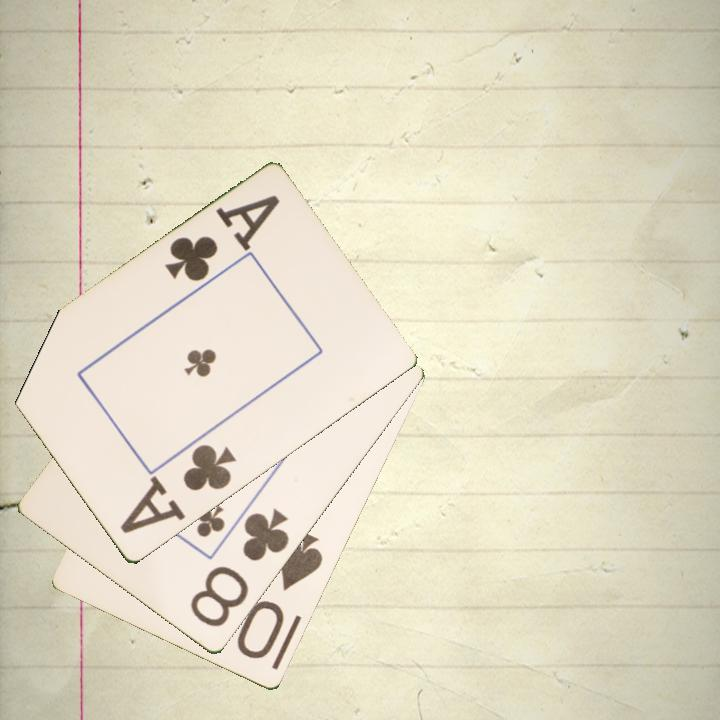10s: (233, 528, 326, 663)
8c: (186, 505, 293, 631)
Ac: (116, 441, 240, 538), (161, 191, 283, 286)
